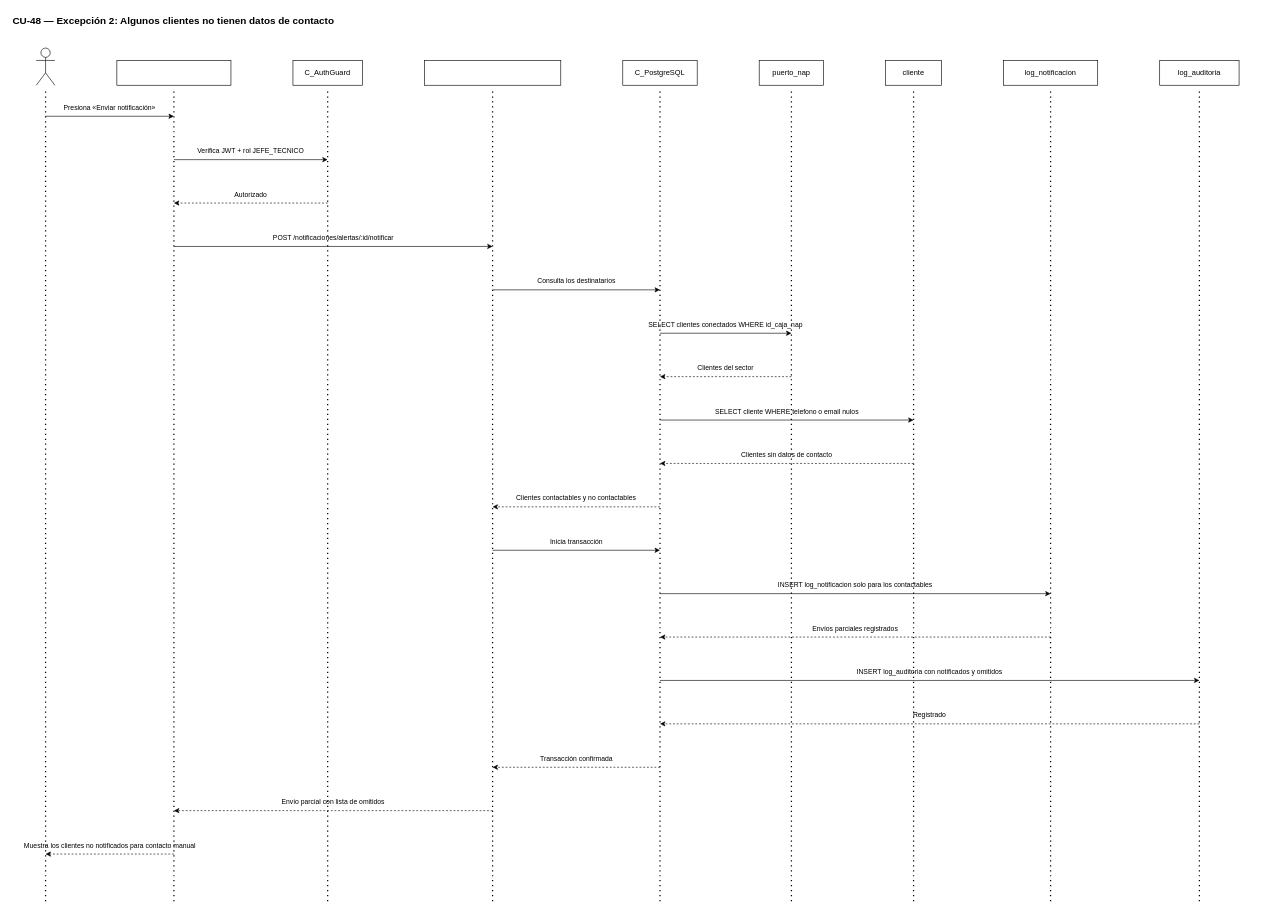
This 1275x915 diagram has some shape labels left out. Each missing label, with the box of its shape:
C_NotificacionesController: (424, 60, 561, 85)
Jefe Técnico: (36, 47, 55, 85)
V_NotificacionMasiva: (116, 60, 231, 85)
